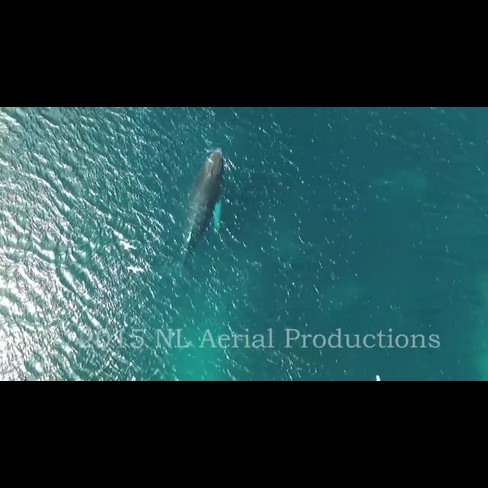hump: (166, 144, 228, 298)
